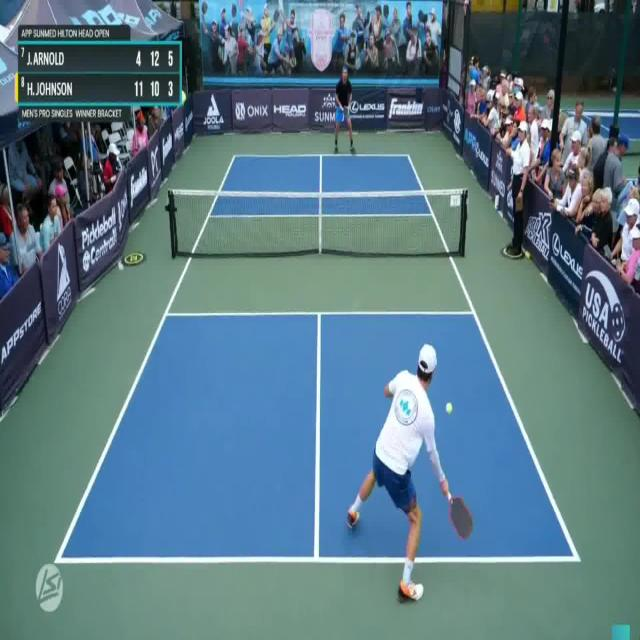ball: (445, 402, 452, 414)
